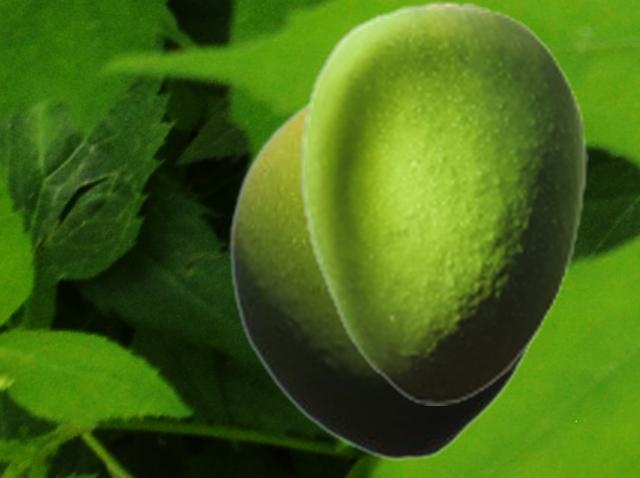green_mango: (298, 0, 587, 404), (228, 99, 546, 461)
